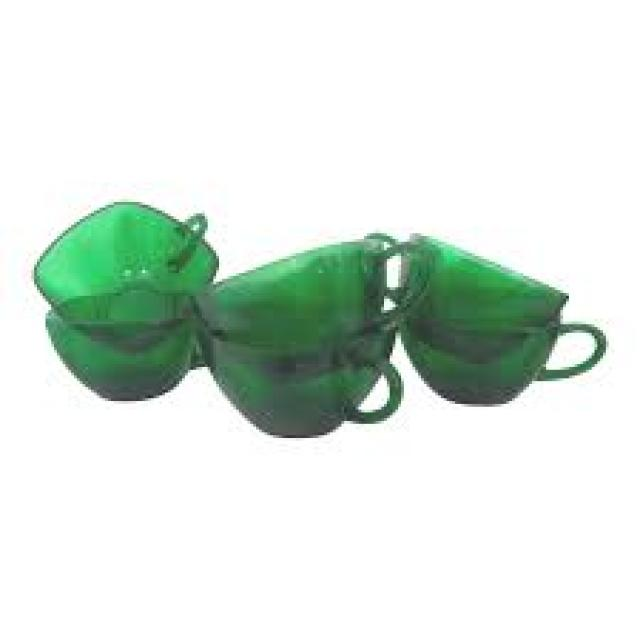glass: (31, 199, 216, 347), (196, 310, 401, 438), (185, 231, 429, 336), (395, 290, 603, 407), (361, 222, 566, 324), (43, 293, 205, 401)
